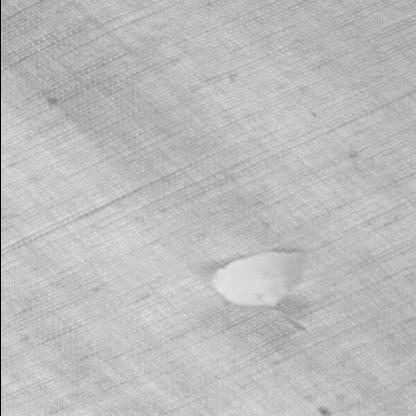objects: (208, 246, 310, 313)
